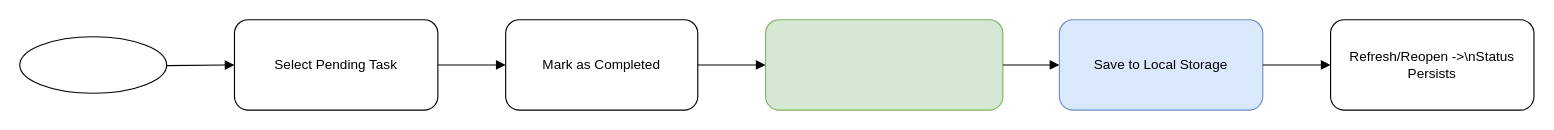
Image size: 1554x130. Some labels were removed from this diagram. The centre of each missing label's shape, as x and y in pixels:
"Update Status\nPending -> Completed" goes at [883,64].
"View Task List" goes at [93,64].
